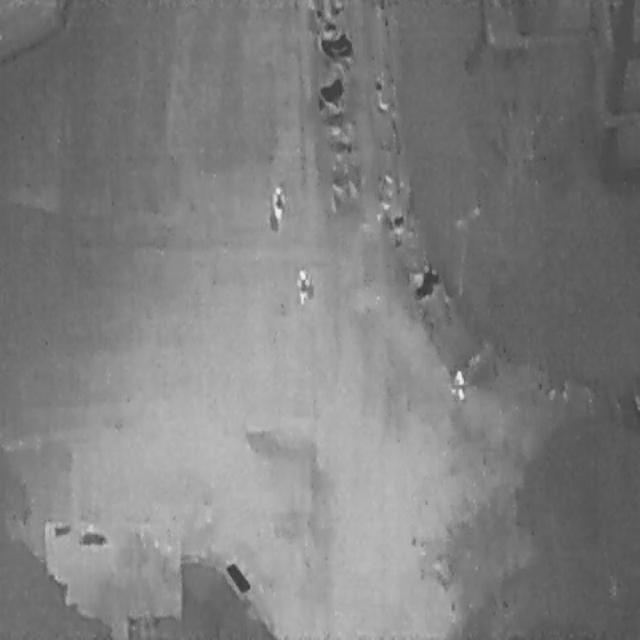Bicycle: (403, 260, 443, 309), (315, 75, 348, 110), (309, 1, 339, 39), (324, 168, 361, 198), (318, 30, 353, 61), (375, 210, 405, 232), (328, 135, 353, 156)
Person: (271, 182, 287, 228), (295, 264, 311, 308), (449, 365, 465, 404)
